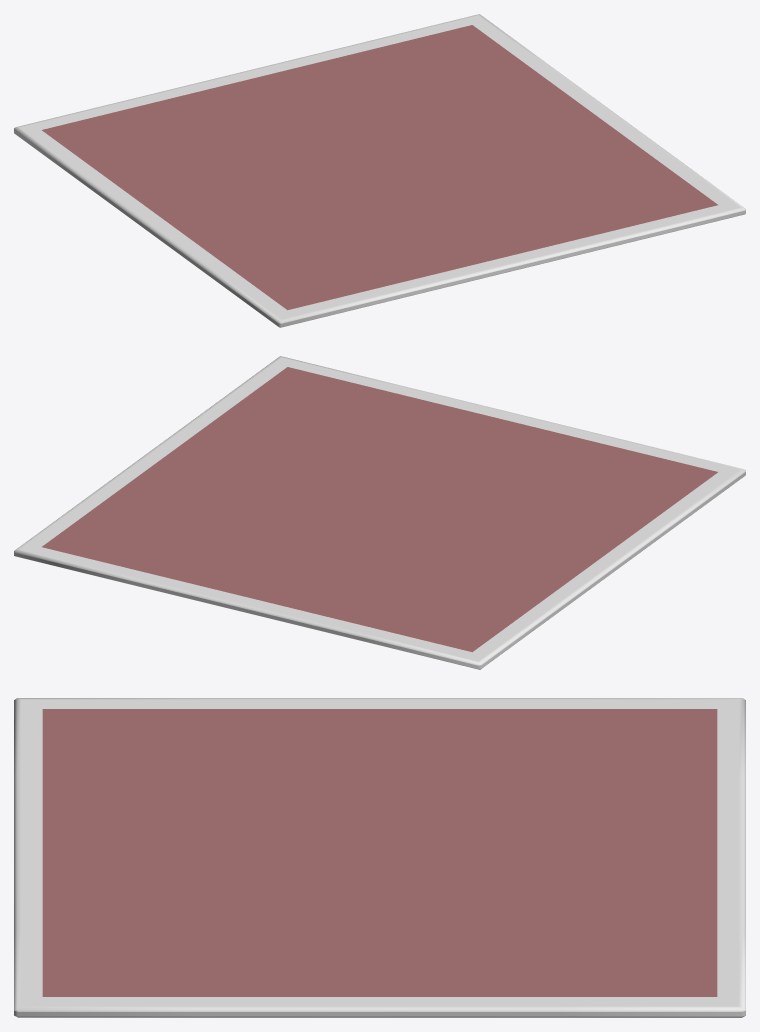
The model's file is Stree_side_Walk.fbx.
3 renders of one model, top to bottom at view 1: azimuth 30°, elevation 25°; view 2: azimuth 150°, elevation 25°; view 3: azimuth 270°, elevation 25°, orthographic. The views are drawn at different scales.
Visible parts, largest first — view 1: Plane.001; view 2: Plane.001; view 3: Plane.001.
Boxes of the visible parts, x1,y1,x2,y2 form: Plane.001: [14, 14, 745, 327]; Plane.001: [14, 356, 745, 669]; Plane.001: [14, 698, 745, 1017].
Bounding box in the file's own units: 1707 × 24.48 × 1688.
